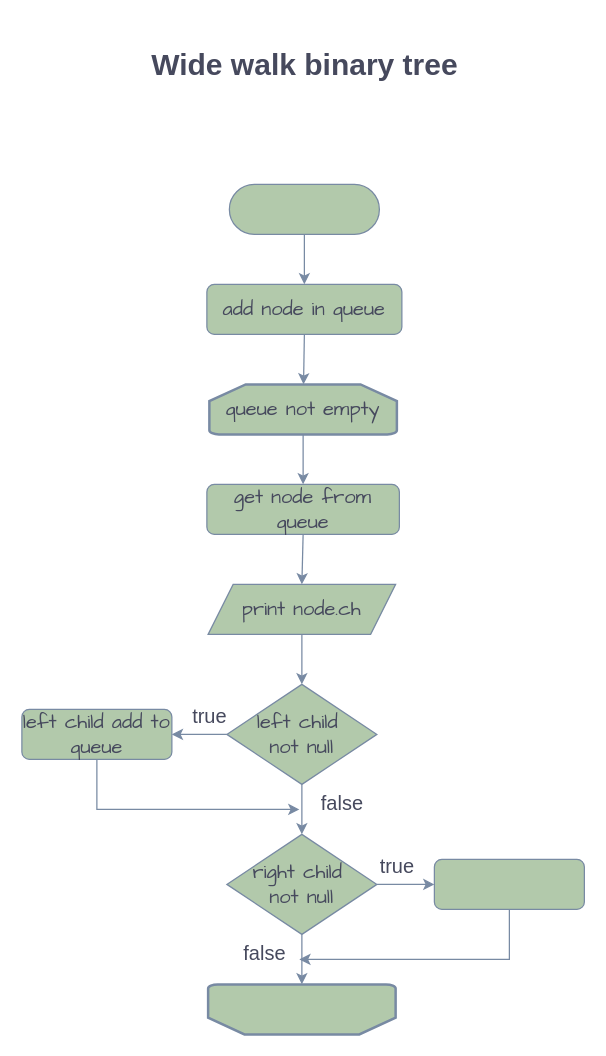
This 606x1056 diagram has some shape labels left out. Each missing label, with the centre of its shape:
queue empty: (301,1008)
right child add to queue: (508,883)
Start: (303,208)
